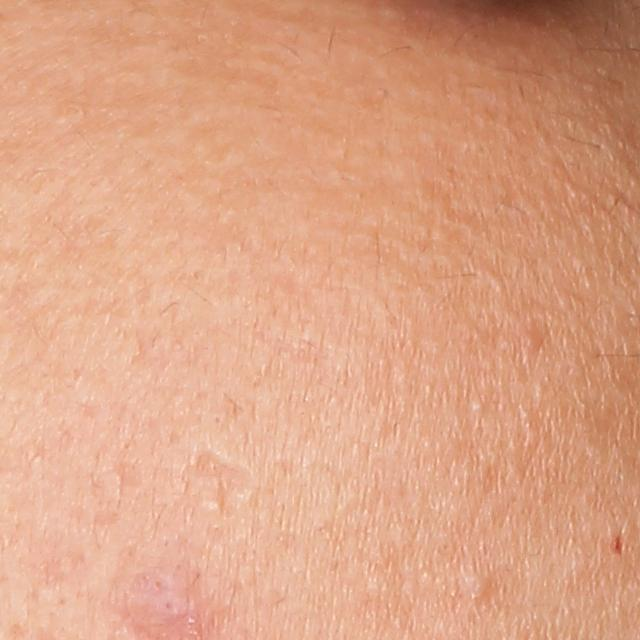atrophic_scar: (181, 451, 259, 500)
comedo: (456, 568, 488, 603), (199, 492, 229, 518), (468, 394, 489, 419), (518, 330, 541, 351)
